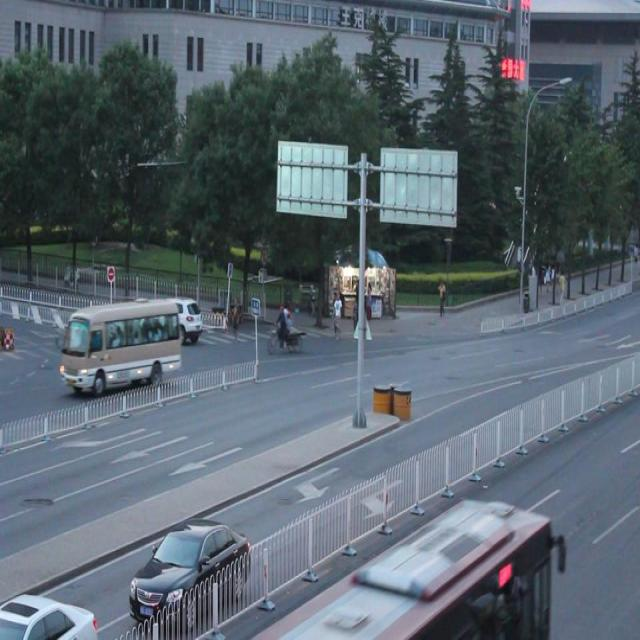car: (128, 517, 250, 628), (0, 591, 99, 640), (140, 294, 201, 341)
truck: (62, 303, 180, 394)
van: (259, 498, 552, 640)
